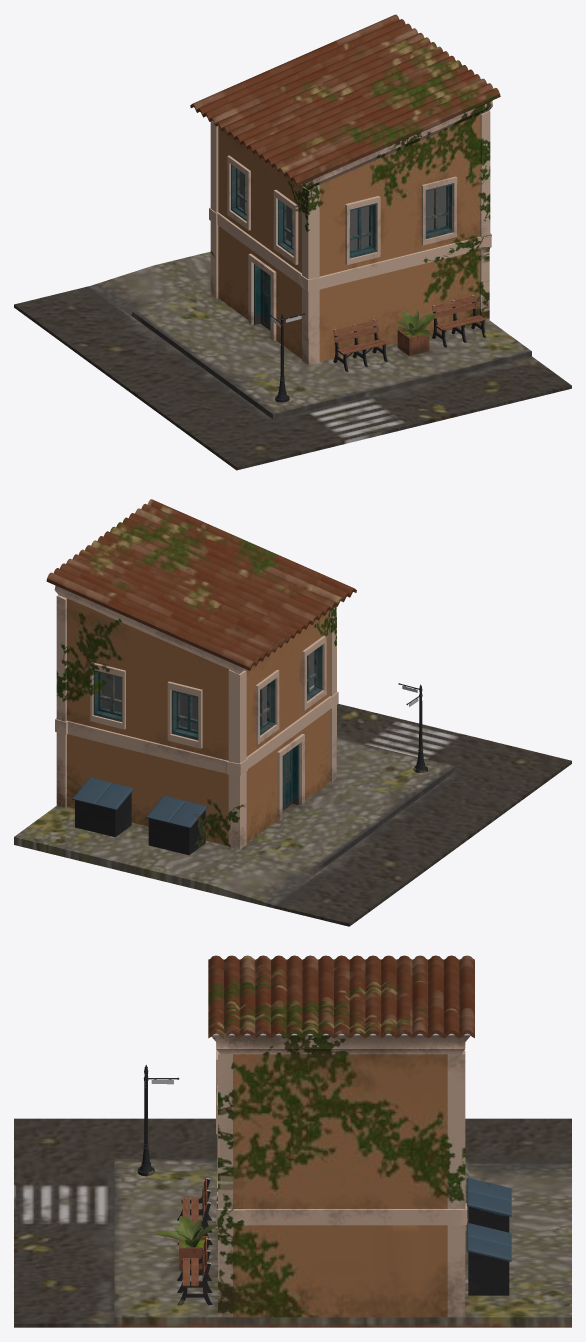
3 views of the same model, one above another, from view 1: azimuth 30°, elevation 25°; view 2: azimuth 150°, elevation 25°; view 3: azimuth 270°, elevation 25° (orthographic). The views are drawn at different scales.
Parts seen in each view (by area): view 1: object 1, casa, pCube52, pCube54, pCube62, pCube66, pCube58, pCube63, pCube57, pCube61, pCube53, pCube67 (+8 smaller); view 2: casa, object 1, pCube36, pCube77, pCube68, pCube53, pCube61, pCube65, pCube57, pCube56, pCube52, pCube54 (+9 smaller); view 3: casa, object 1, pCube77, pCube36, pCube61, pCube58, pCube64, pCube57, pCube67, pCube54, pCube55, pCube56 (+11 smaller).
Boxes of the visible parts, x1,y1,x2,y2 form: object 1: (14, 251, 571, 470); casa: (209, 100, 492, 364); pCube52: (290, 88, 500, 186); pCube54: (278, 78, 486, 176); pCube62: (228, 42, 436, 139); pCube66: (203, 23, 411, 120); pCube58: (253, 60, 461, 157); pCube63: (221, 37, 430, 135); pCube57: (259, 65, 467, 162); pCube61: (234, 46, 443, 144); pCube53: (284, 83, 493, 180); pCube67: (196, 19, 405, 117); casa: (54, 585, 338, 849); object 1: (14, 704, 571, 926); pCube36: (146, 795, 207, 855); pCube77: (72, 777, 133, 837); pCube68: (46, 572, 256, 670); pCube53: (141, 504, 350, 602); pCube61: (91, 540, 300, 637); pCube65: (66, 558, 275, 656); pCube57: (116, 522, 325, 620); pCube56: (122, 517, 331, 615); pCube52: (147, 499, 356, 597); pCube54: (135, 508, 344, 606); casa: (211, 1033, 470, 1317); object 1: (14, 1118, 571, 1327); pCube77: (466, 1223, 511, 1295); pCube36: (466, 1178, 511, 1232); pCube61: (349, 955, 365, 1037); pCube58: (302, 955, 318, 1037); pCube64: (396, 955, 412, 1037); pCube57: (286, 955, 302, 1038); pCube67: (443, 955, 459, 1037); pCube54: (239, 955, 255, 1037); pCube55: (255, 955, 270, 1038); pCube56: (271, 955, 286, 1038).
Bounding box in the file's own units: 10.24 × 6.88 × 11.55.
Materials: 8 (7 with a texture image).
